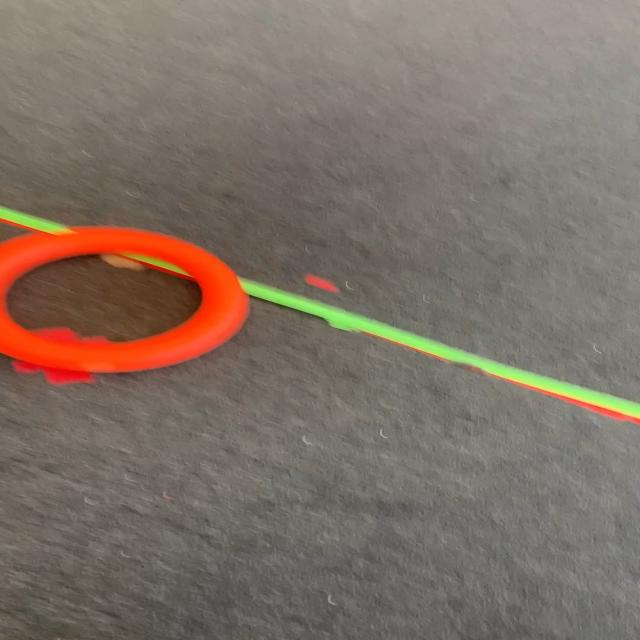notes: (0, 225, 245, 376)
